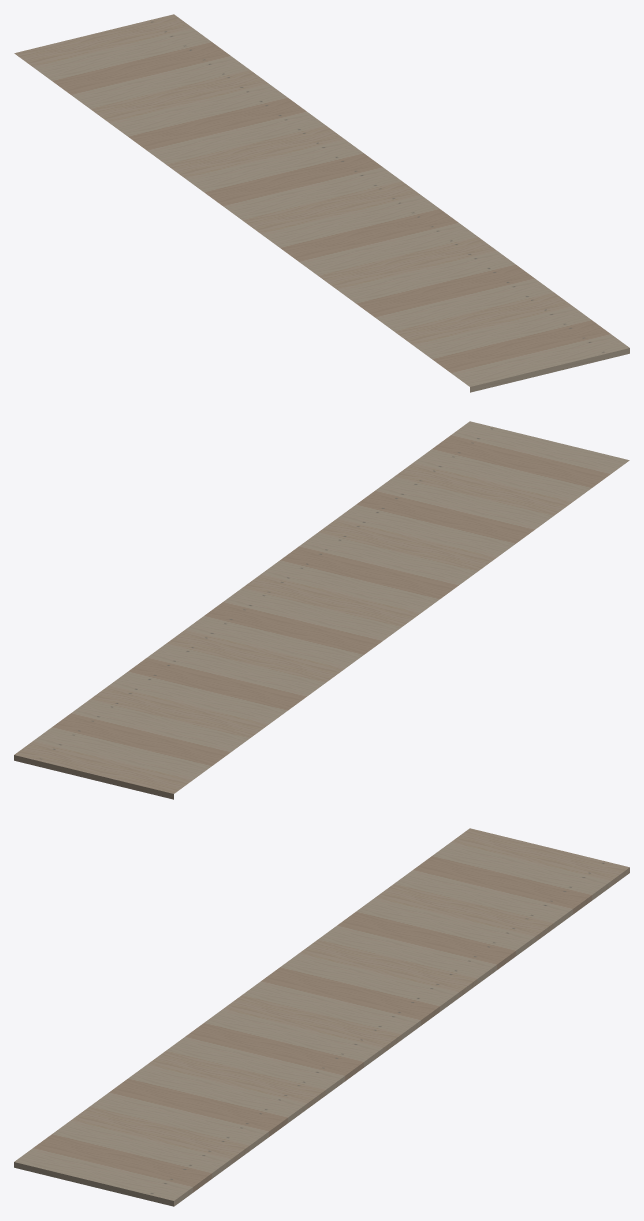
The model's file is kd_stage_135ded_4_41_exterior.glb.
The picture shows the model from 3 angles, top to bottom: view 1: azimuth 30°, elevation 25°; view 2: azimuth 150°, elevation 25°; view 3: azimuth 330°, elevation 25°; orthographic projection.
Visible parts, largest first — view 1: kd_stage_135ded_4_41_exterior; view 2: kd_stage_135ded_4_41_exterior; view 3: kd_stage_135ded_4_41_exterior.
Boxes of the visible parts, box(x1,y1,x2,y2) form: kd_stage_135ded_4_41_exterior: box(14, 14, 629, 392); kd_stage_135ded_4_41_exterior: box(14, 421, 629, 799); kd_stage_135ded_4_41_exterior: box(14, 828, 629, 1206).
Size of the model in its own units: 0.88 by 0.03 by 4.34.
1 material, 1 textured.
